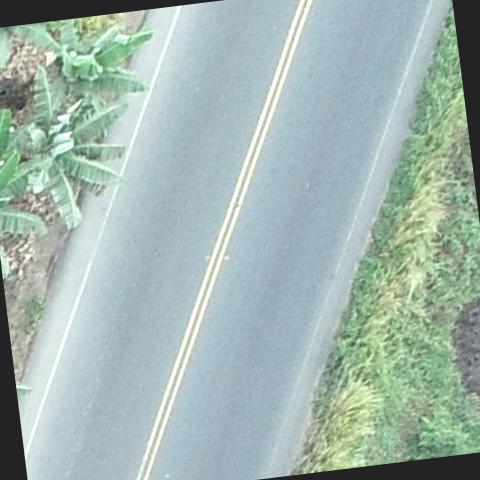Banana-plant: (0, 73, 141, 226), (29, 18, 155, 108)
